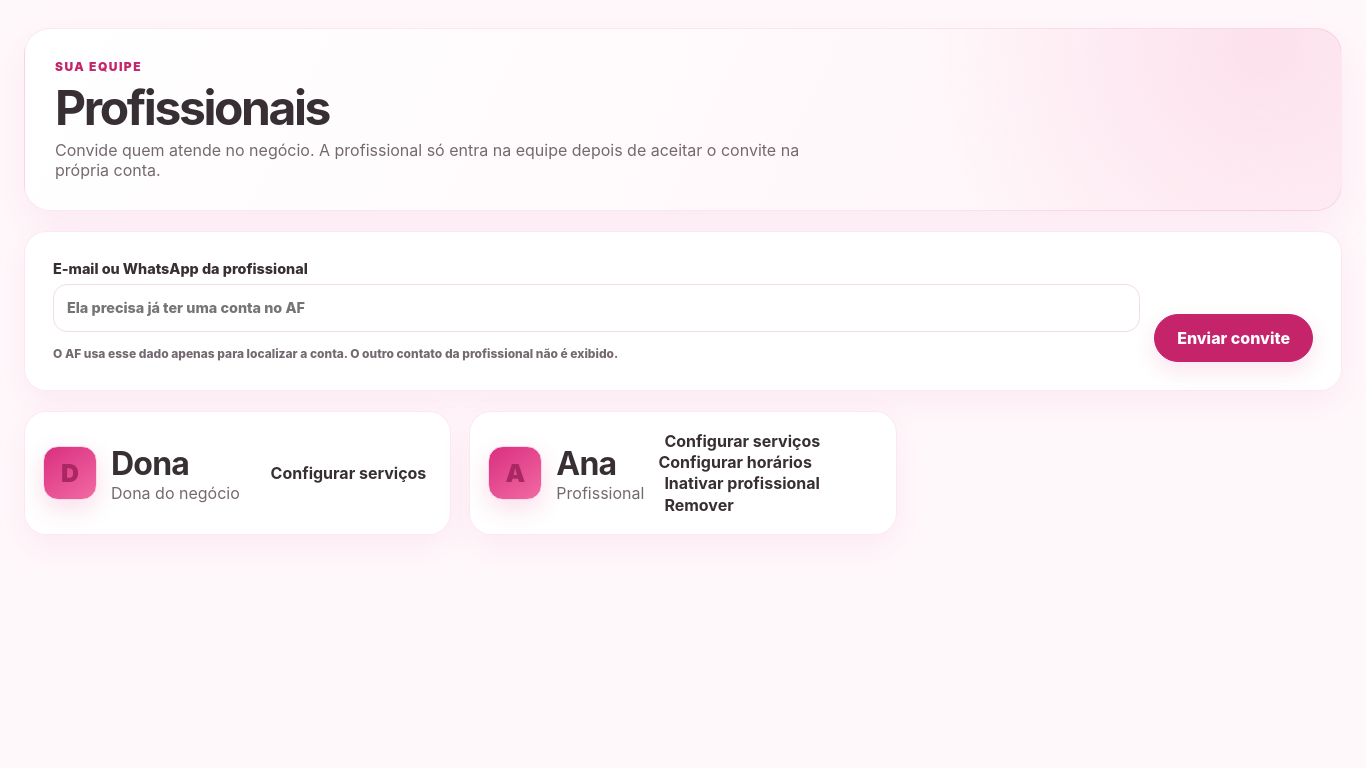
equipe por convite › CA-EQP-04/05: protege a dona e preserva a profissional se há reserva confirmada
Expected: the heading "Ana" is shown, [556,444,616,483]
Click the button "Remover": (699, 505) [658,494,740,516]
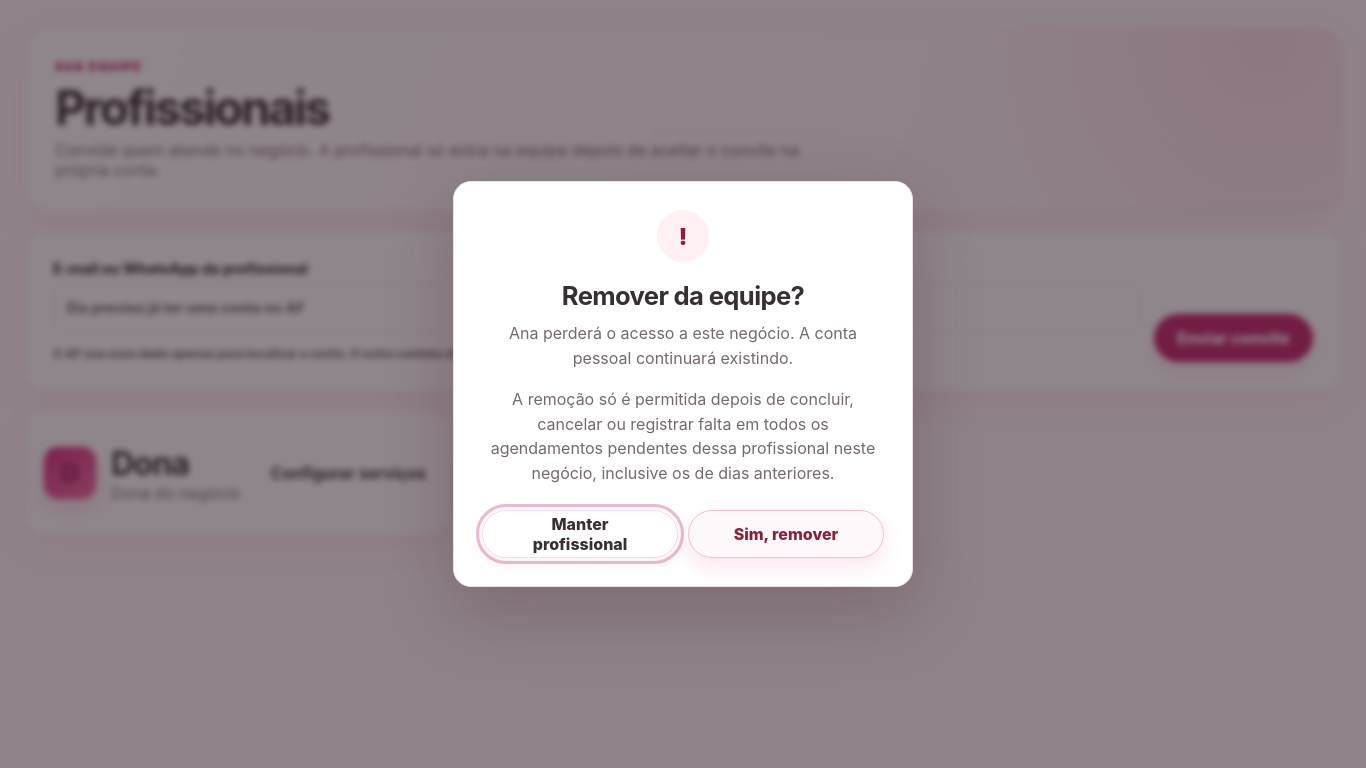
Click the button "Sim, remover": (786, 534) [688,510,884,558]
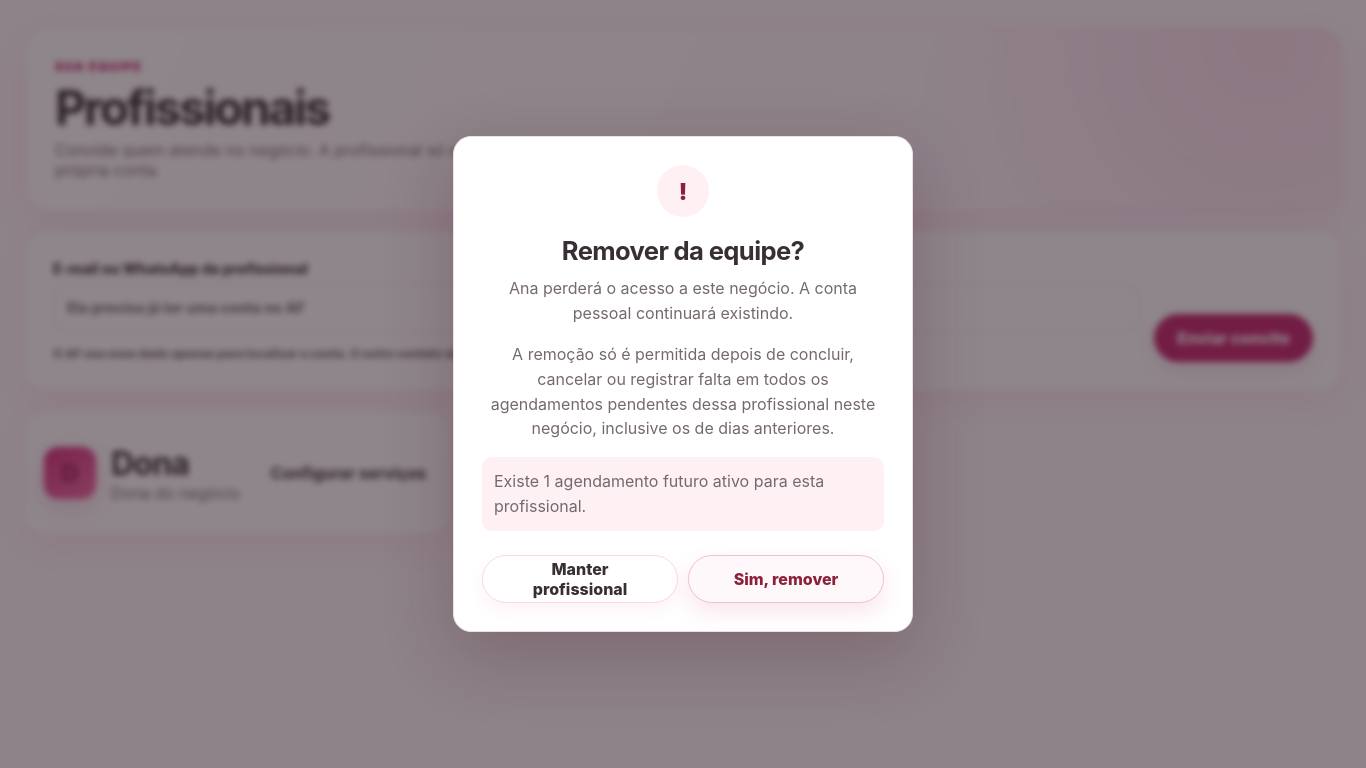
Expected: the heading "Ana" is shown, [556,444,616,483]
Expected: the message reads "Existe 1 agendamento futuro ativo para esta profissional.", [494,471,824,516]
